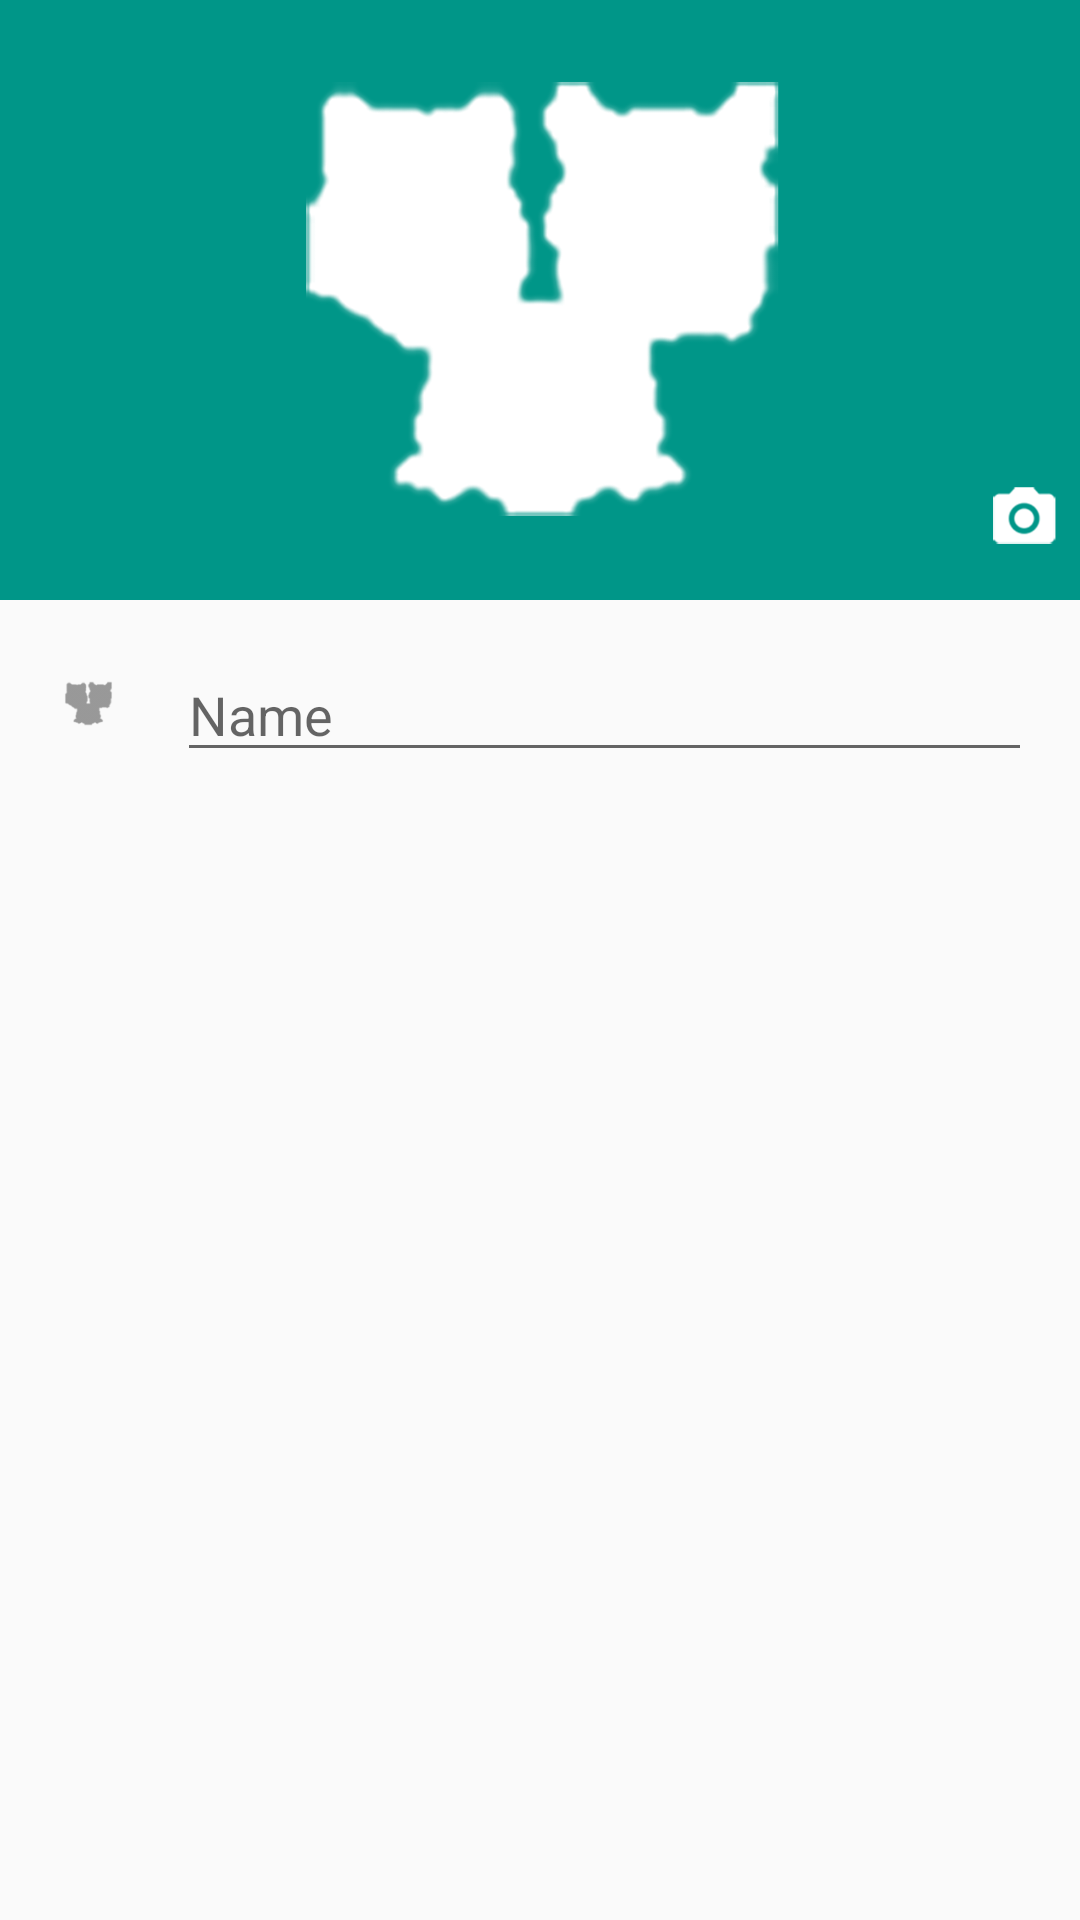

Point at icon controls on the screen. Image size 1080px×1920px, points as (x,y).
animal group: (88,703)
